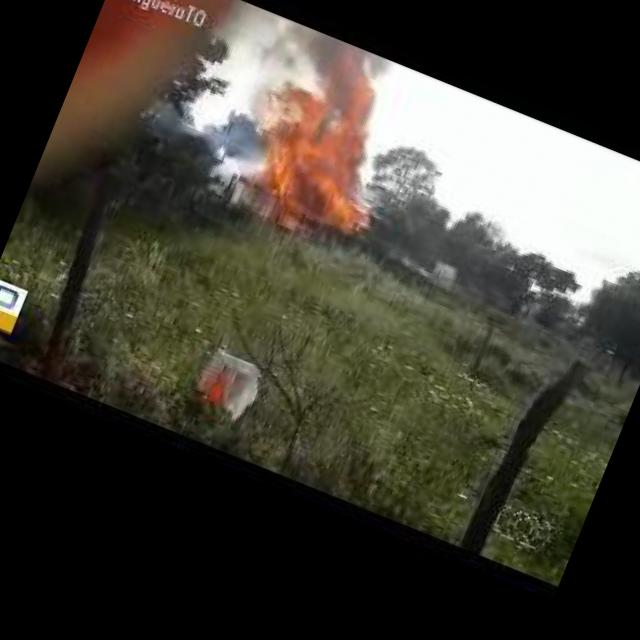fire: (235, 40, 419, 237)
smoke: (256, 12, 428, 126)
